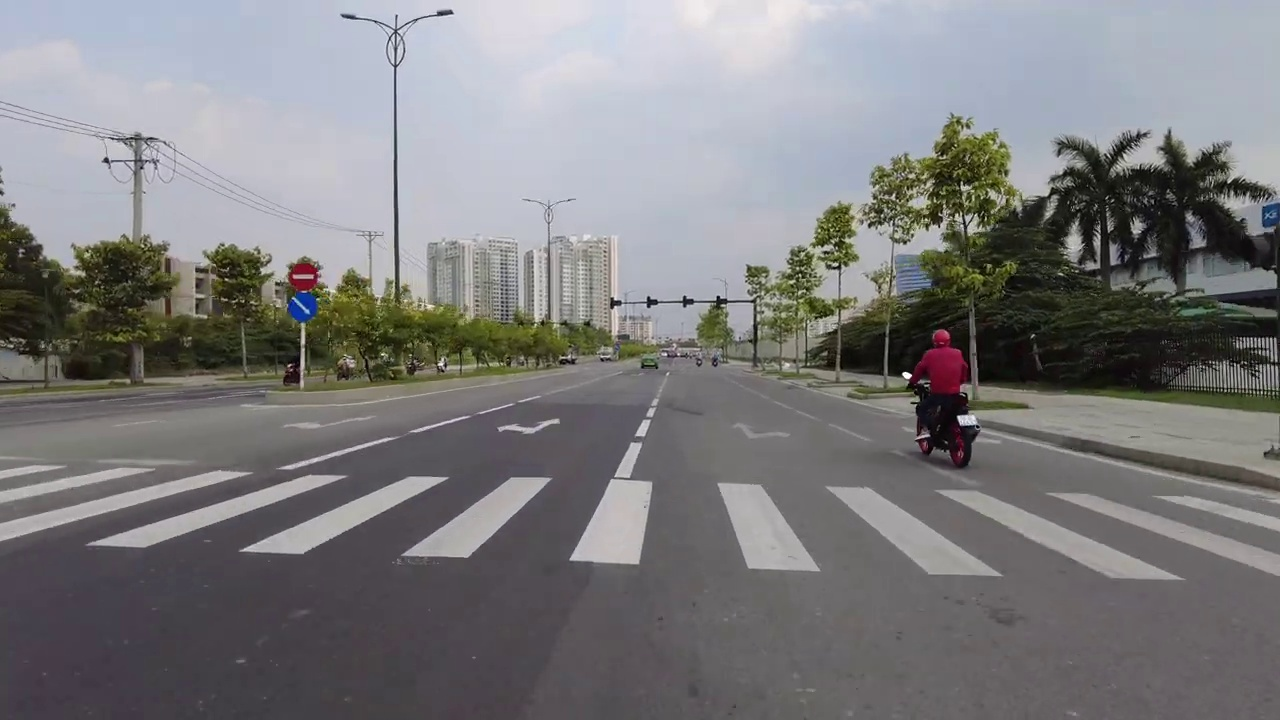cam_nguoc_chieu: (288, 263, 318, 291)
huong_phai_di_vong: (288, 292, 318, 323)
